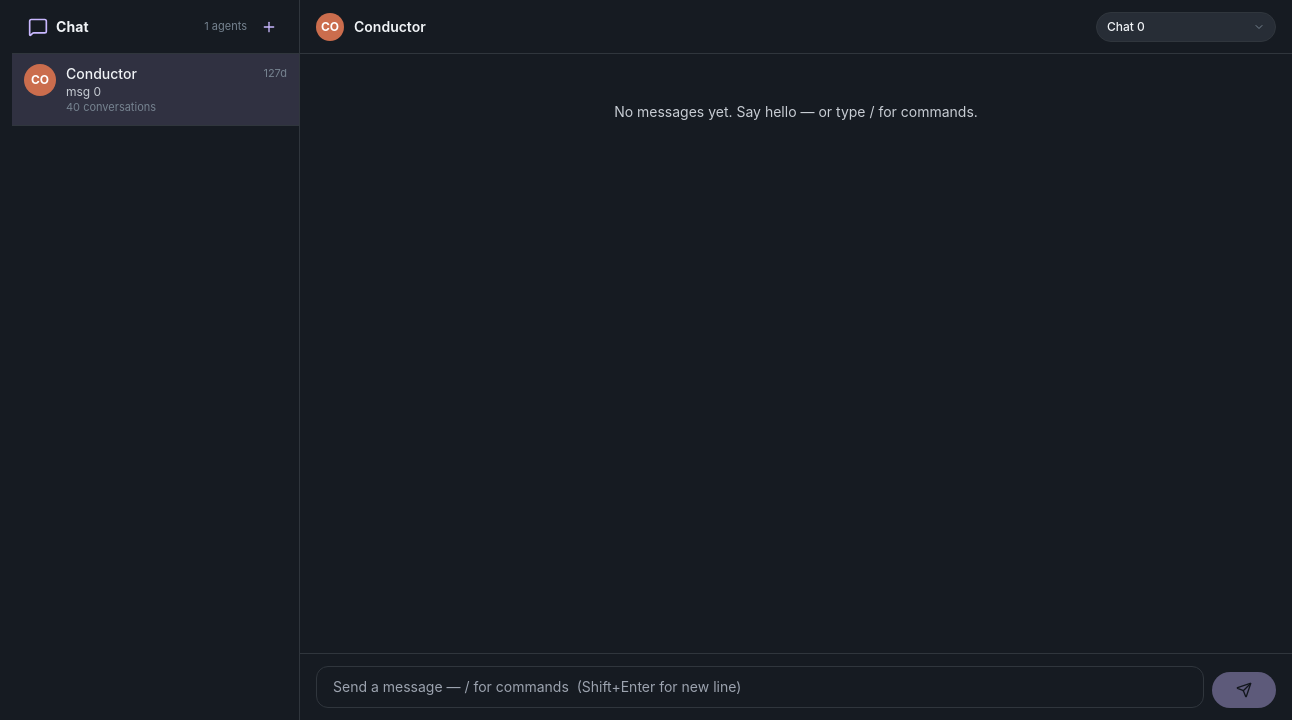
Test: Chat page › conversations dropdown scrolls inside a max height (does not grow the page)
This screenshot has width=1292, height=720.
Click the button titled "Switch conversation".
click(1186, 26)  # box top-left (1096, 12), bottom-right (1276, 42)
(page scrolled)
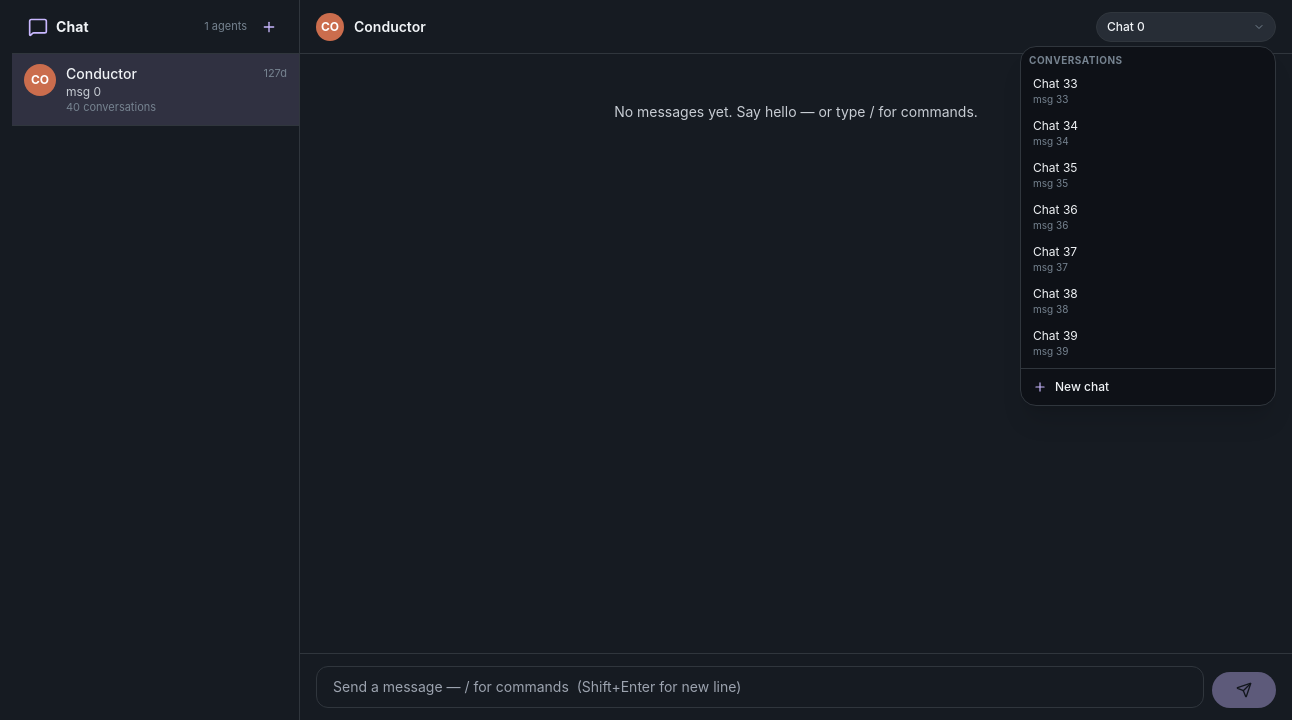
Expected: the element with class "overflow-y-auto" that starts with "Chat 0" is shown, top-left (1021, 72), bottom-right (1275, 368)
Expected: the text "Chat 39" is shown, top-left (1033, 328), bottom-right (1078, 342)
